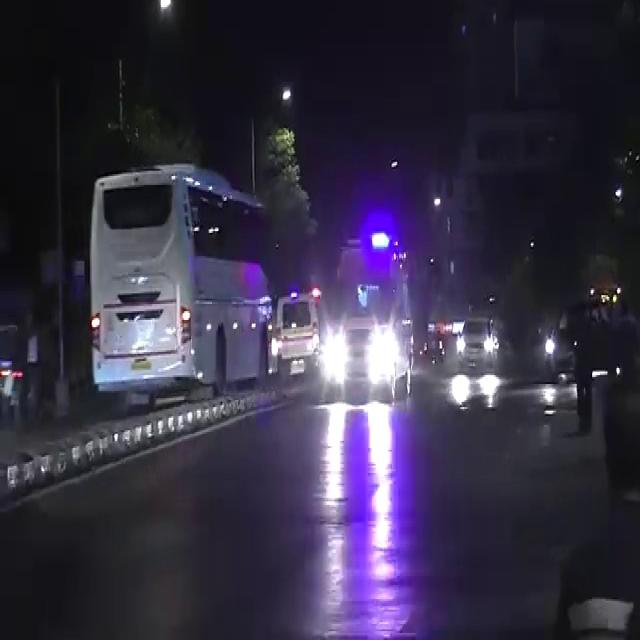ambulance: (313, 240, 418, 419)
